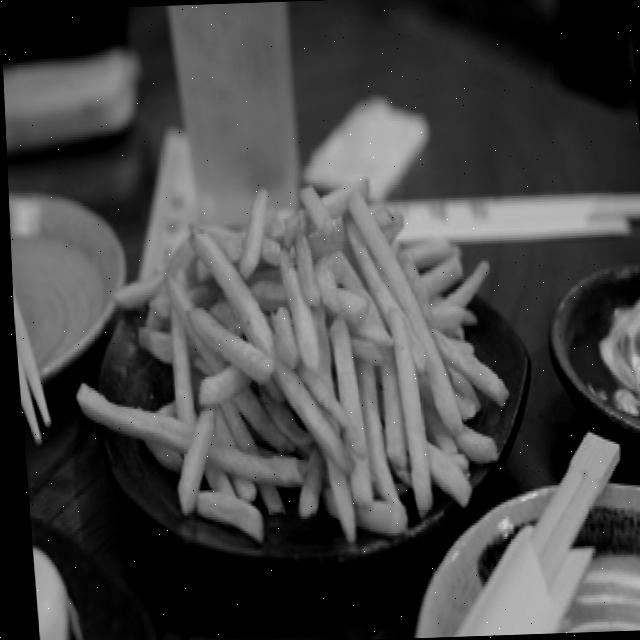炸货点心: (66, 166, 539, 589)
